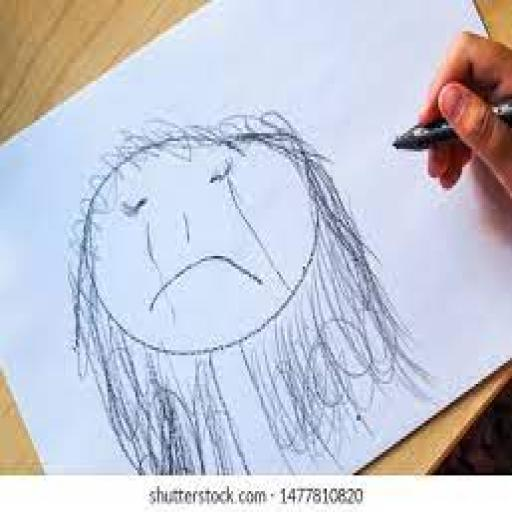person: (66, 105, 427, 476)
